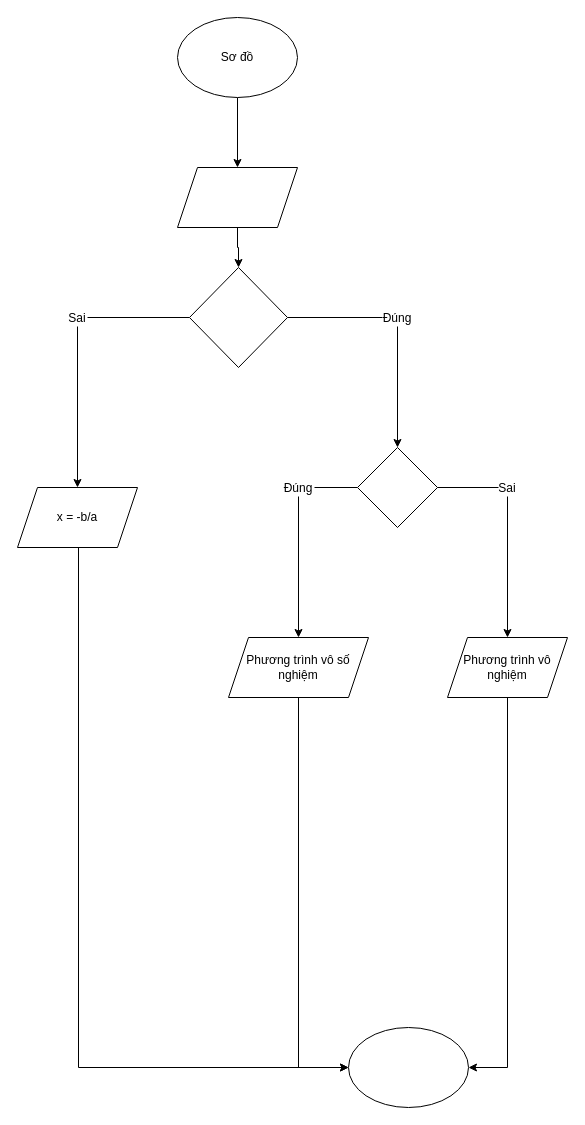
The diagram is 585 pixels wide and 1125 high, and some of its shapes have lost their labels. The shapes that lost their labels are listed below. From the top down, each one's centre as x and y in pixels, then its label:
the point at 237,197: Nhập a,b
the point at 238,317: Kiểm tra điều kiện a = 0
the point at 397,487: Kiểm tra b= 0
the point at 408,1067: End
